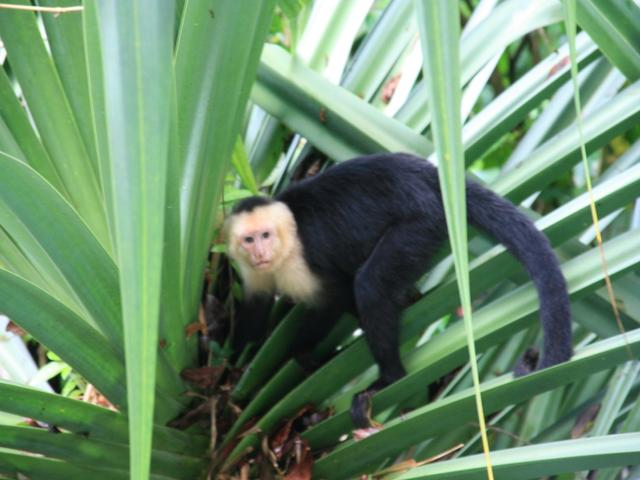monkey: (189, 122, 559, 375)
